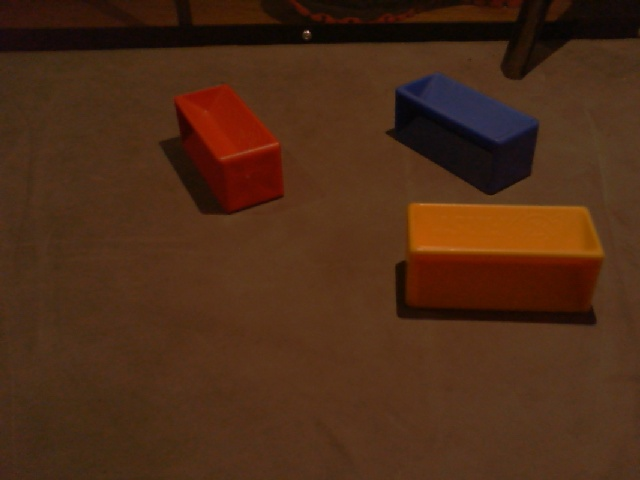BlueSample: (392, 71, 541, 196)
RedSample: (170, 81, 287, 217)
YellowSample: (403, 201, 607, 319)
